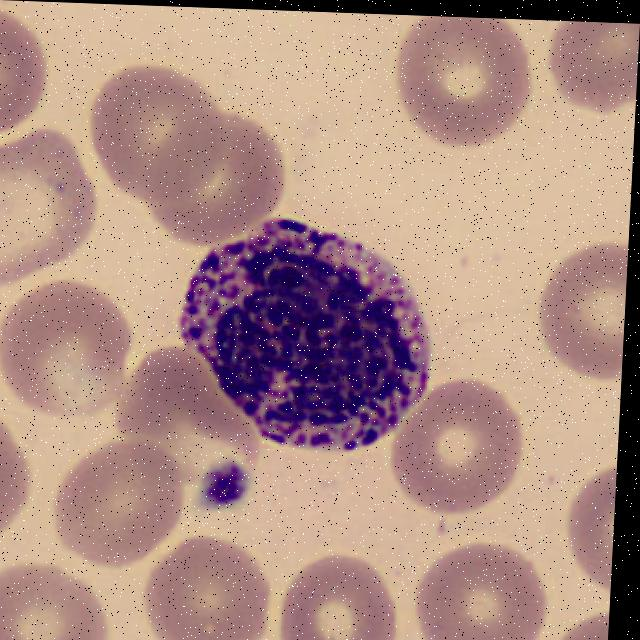basophil: (174, 214, 443, 462)
platelets: (184, 445, 256, 518)
rbc: (385, 342, 538, 526), (0, 284, 155, 429), (50, 434, 208, 572), (85, 58, 234, 197), (141, 101, 298, 231), (119, 334, 268, 465), (392, 15, 534, 147), (145, 518, 286, 640), (0, 125, 102, 292), (402, 536, 552, 640), (530, 226, 629, 374), (285, 543, 405, 640), (0, 558, 127, 640), (550, 448, 618, 601), (543, 21, 640, 120), (0, 0, 63, 143), (0, 388, 43, 548), (546, 609, 610, 640)
